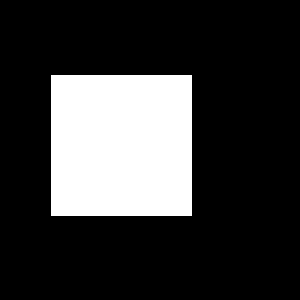circle: (51, 75, 192, 216)
